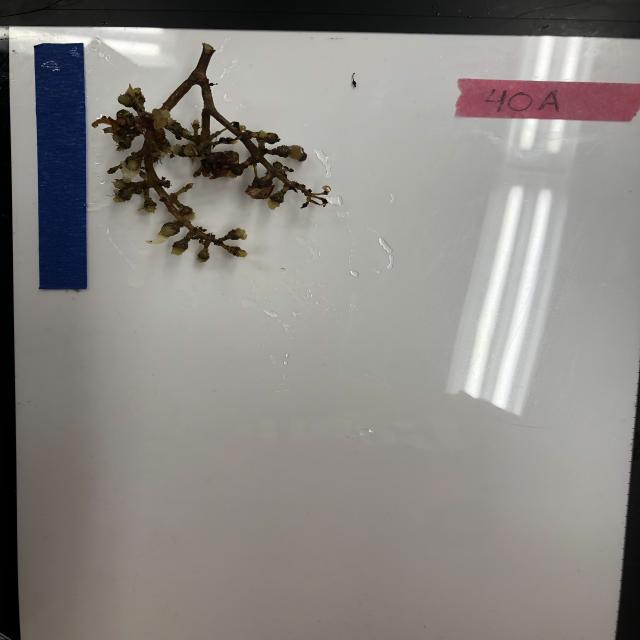index: (452, 75, 640, 124)
measure_label: (30, 40, 91, 294)
rachis_cluster: (92, 43, 336, 263)
